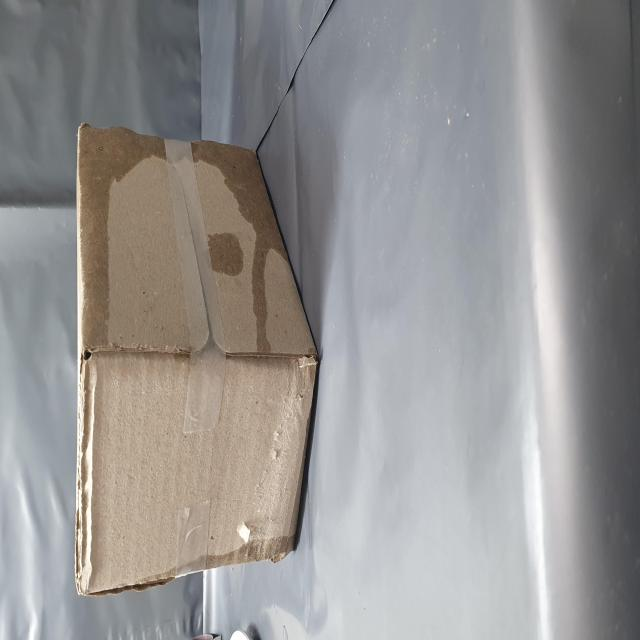wet: (150, 133, 277, 531)
